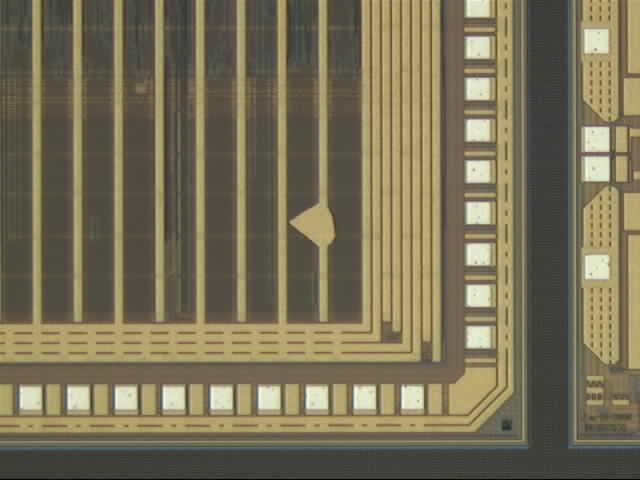BLOCK ETCH: (287, 197, 343, 253)
